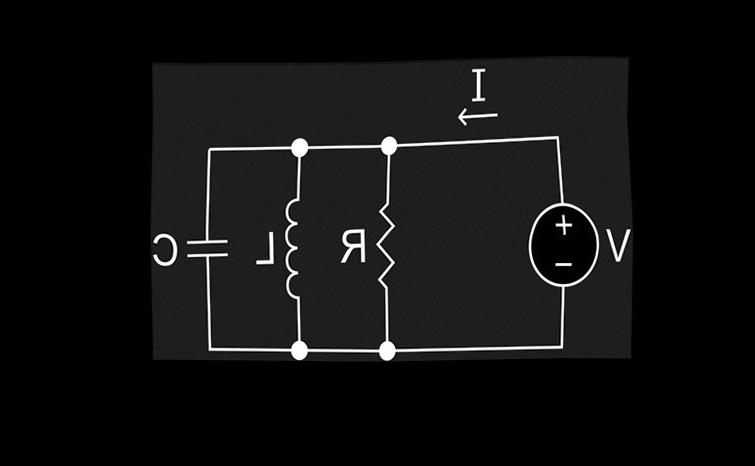Battery: (517, 186, 611, 298)
